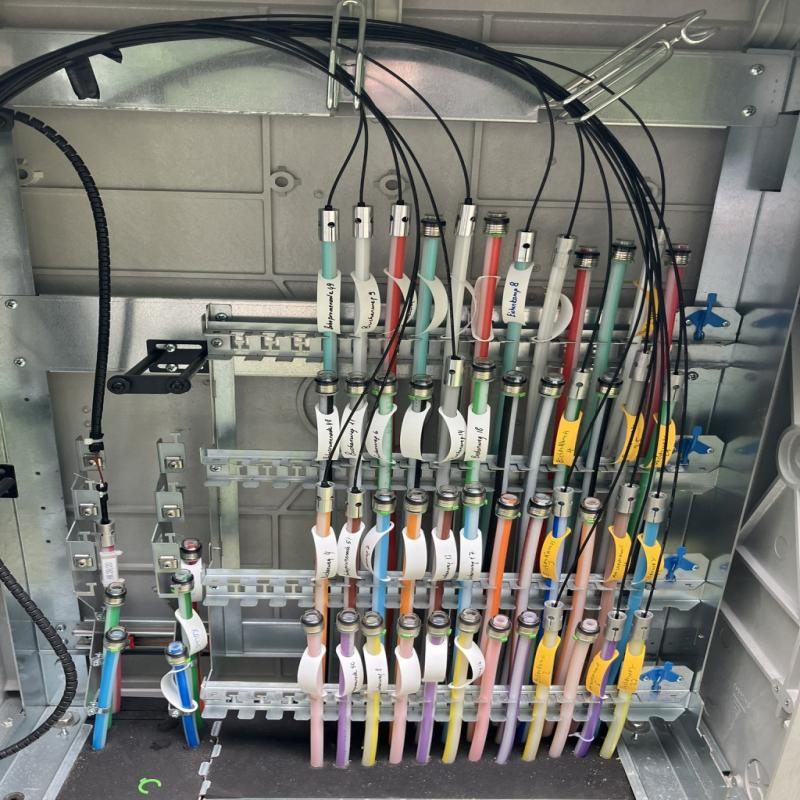NT-Gehause: (8, 0, 800, 800)
